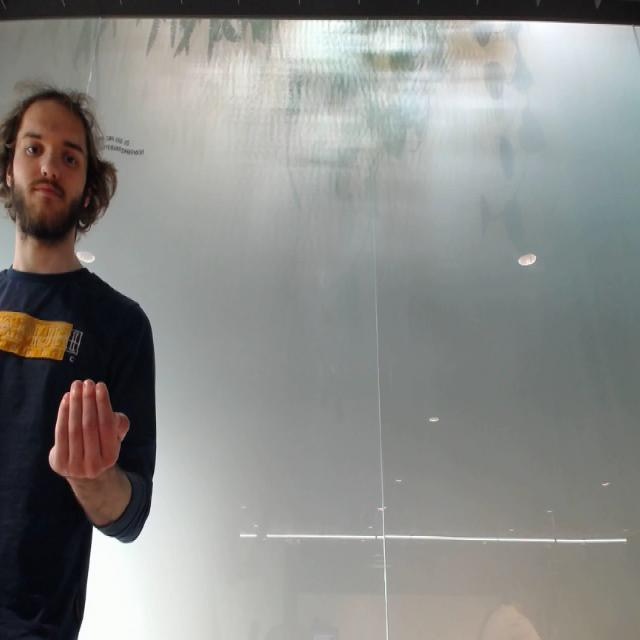forward: (45, 374, 134, 486)
